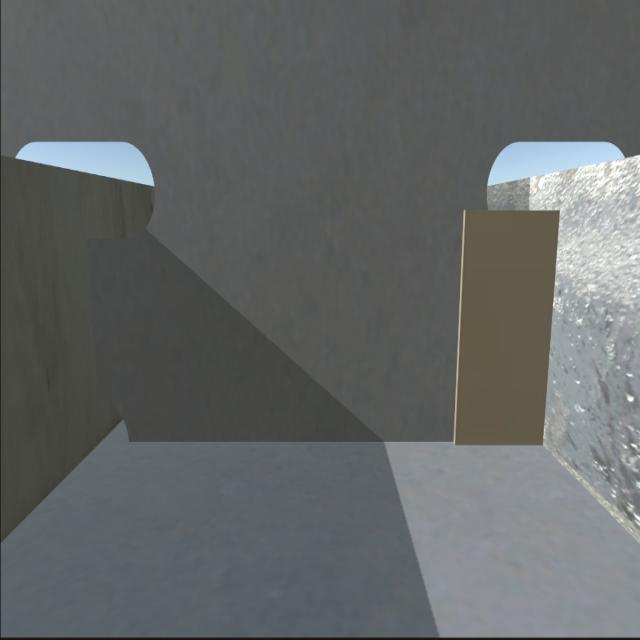fillet_hole: (98, 396, 132, 444)
fillet_yong_jeop_jang: (127, 427, 540, 448)
longi_yong_jeop_jang: (529, 207, 559, 444), (84, 244, 106, 390)
plate_CP01: (457, 201, 550, 447)
